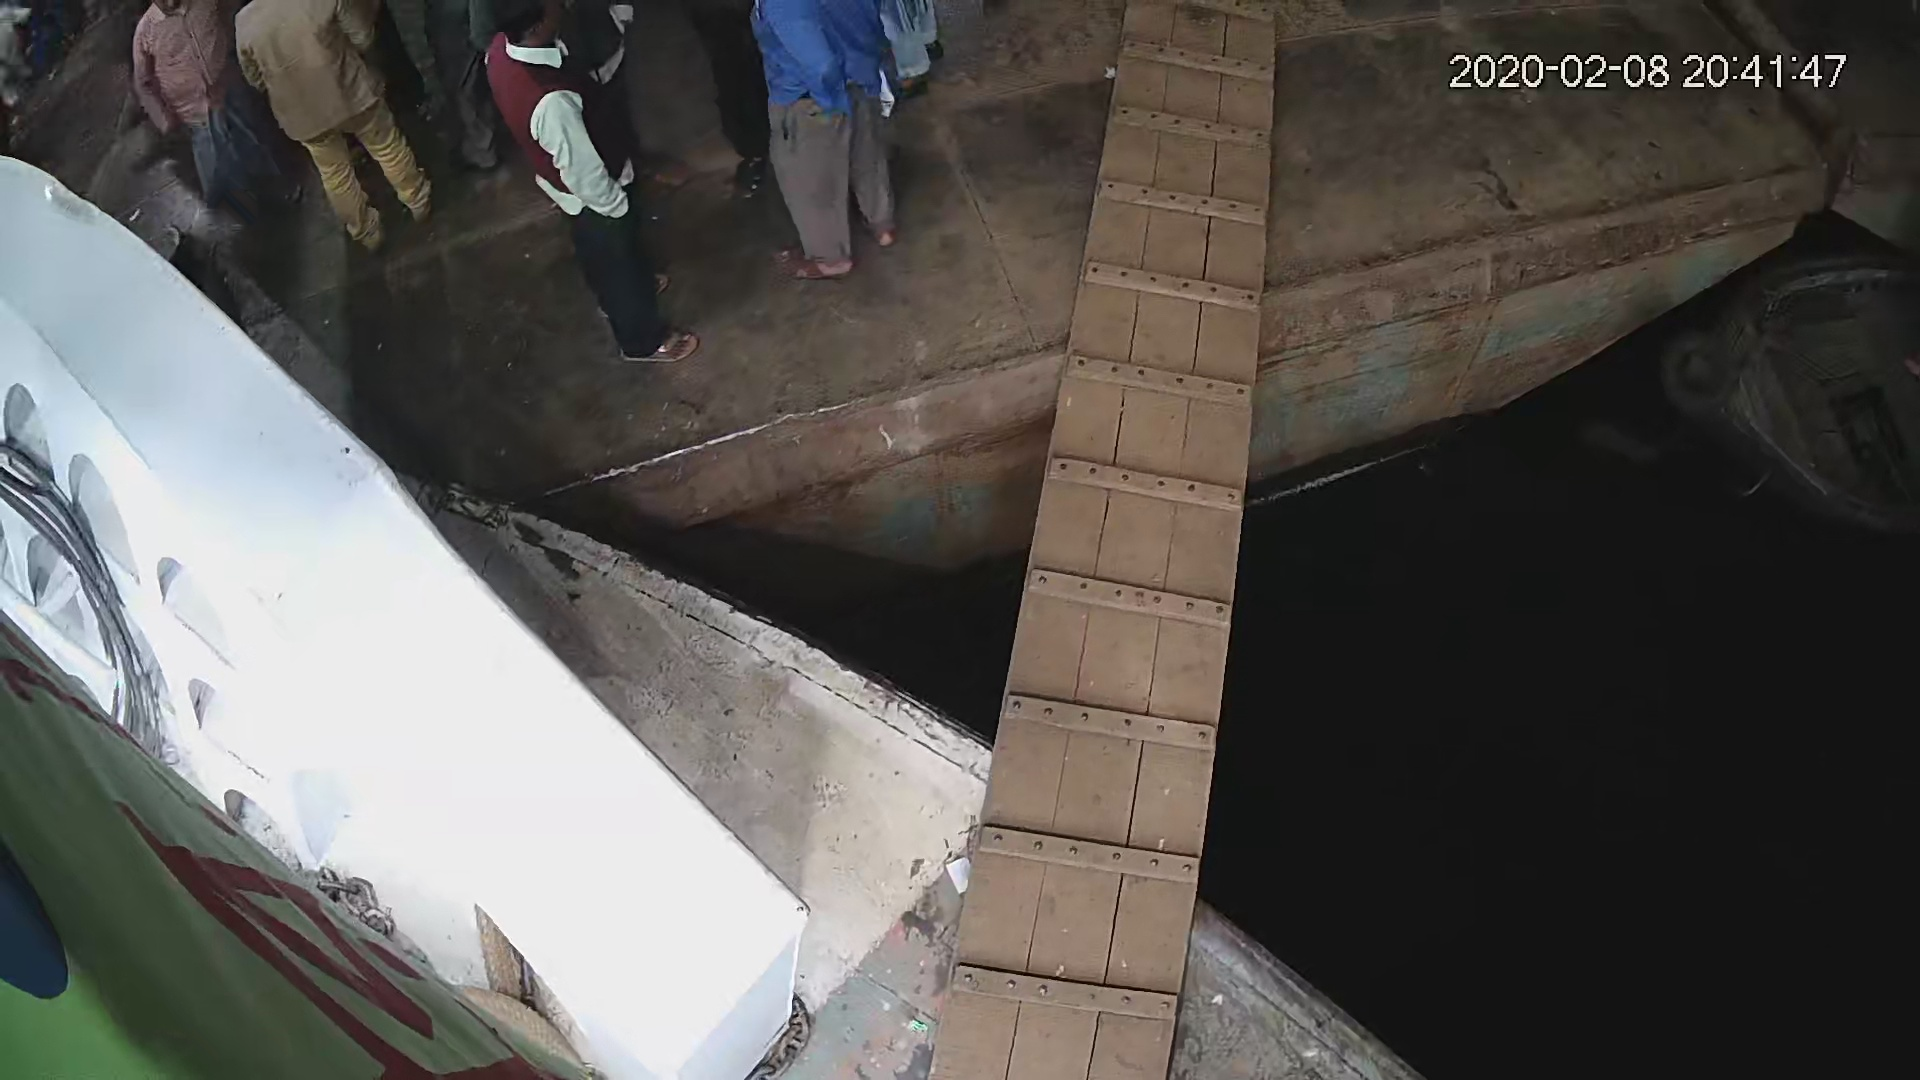person: (473, 1, 704, 376), (229, 1, 435, 247)
